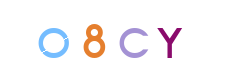8: (54, 0, 134, 80)
C: (75, 0, 155, 80)
O: (53, 0, 133, 80)
Y: (129, 0, 209, 80)
